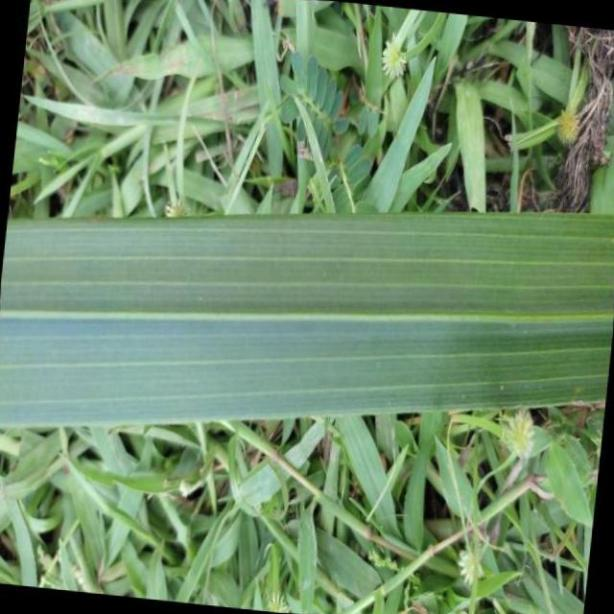Healthy: (0, 214, 614, 432)
